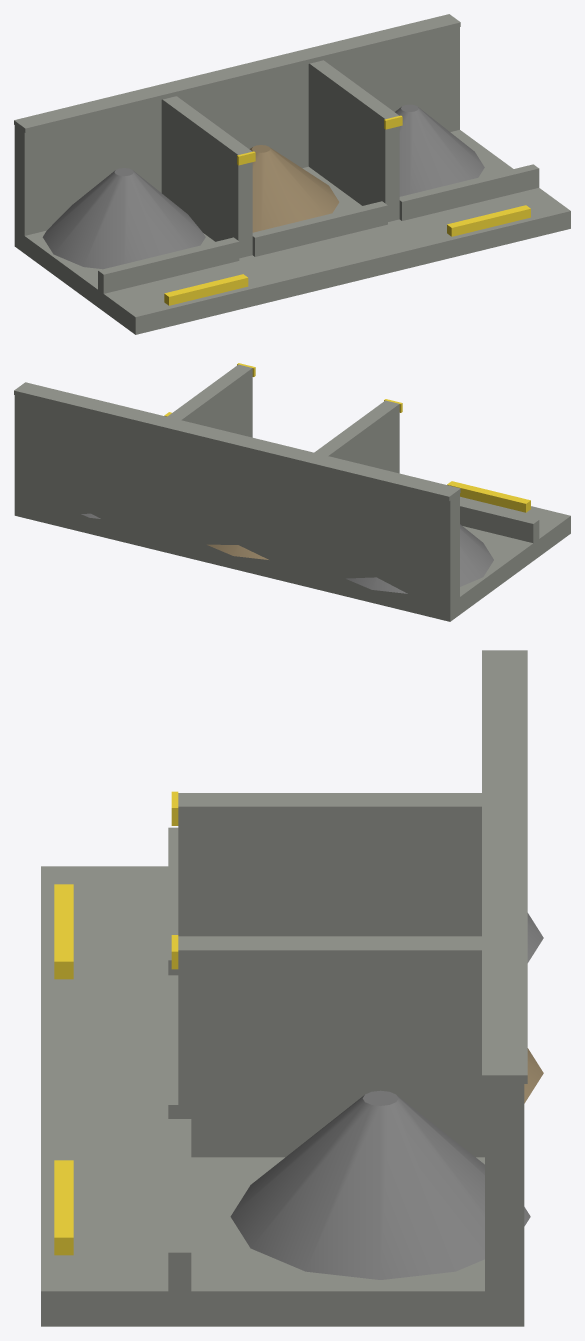
File: mashup-yard-mid-prebuilt.fbx
3 renders of one model, top to bottom at view 1: azimuth 30°, elevation 25°; view 2: azimuth 150°, elevation 25°; view 3: azimuth 270°, elevation 25°, orthographic. The views are drawn at different scales.
Visible parts, largest first — view 1: a1025.Yard; view 2: a1025.Yard; view 3: a1025.Yard.
Boxes of the visible parts, x1,y1,x2,y2 form: a1025.Yard: [14, 14, 570, 334]; a1025.Yard: [14, 363, 570, 621]; a1025.Yard: [41, 650, 543, 1326].
Size of the model in its own units: 15.4 by 4.25 by 7.7.
